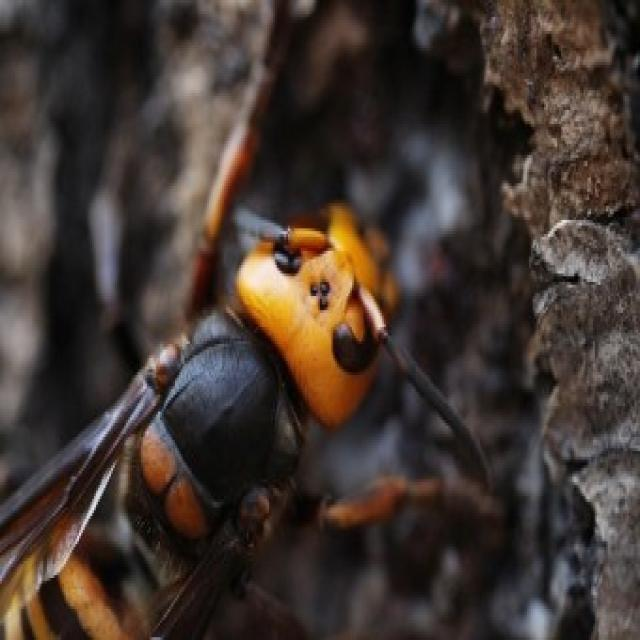Wasp: (2, 196, 504, 632)
